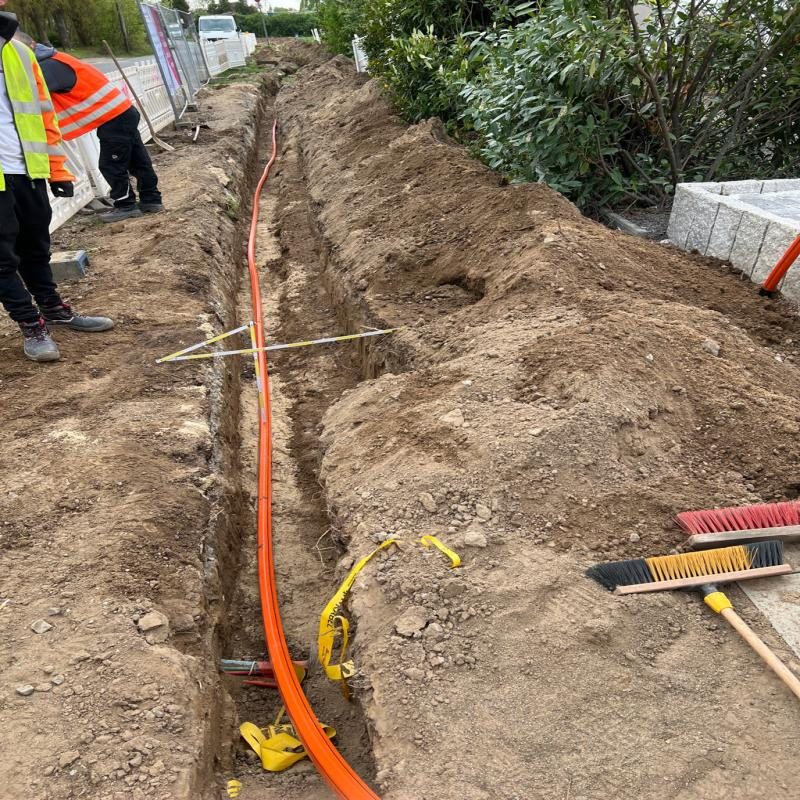Orang-Speednetrohrchen: (247, 262, 361, 793)
